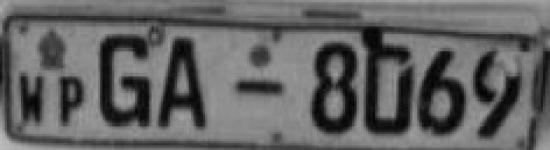-: (232, 74, 288, 102)
0: (364, 39, 416, 139)
6: (415, 43, 470, 139)
8: (308, 38, 363, 138)
9: (470, 43, 523, 142)
A: (157, 33, 214, 134)
G: (94, 30, 155, 131)
P: (58, 74, 90, 126)
W: (16, 69, 49, 126)
